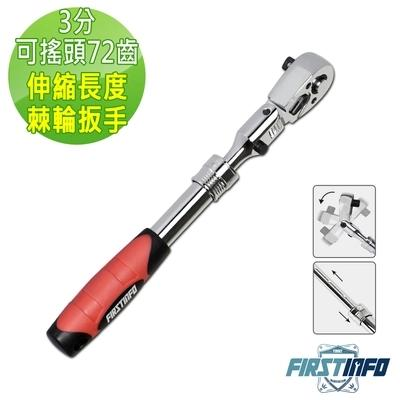Tool: (266, 49, 336, 126)
